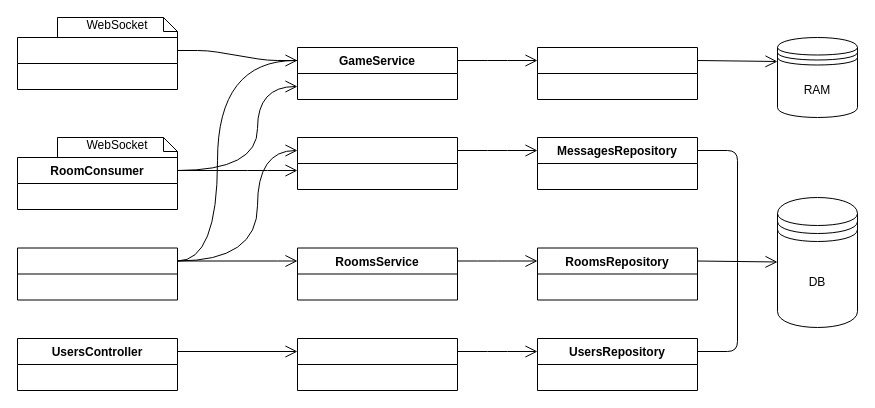
Some shapes in this 875 by 408 pixel diagram are drawn without their labels. Each missing label, with the box of its shape:
ChatService: (296, 136, 458, 190)
GamesRepository: (536, 46, 698, 100)
LobbyConsumer: (16, 36, 178, 90)
RoomsController: (16, 247, 178, 300)
UsersService: (296, 338, 458, 390)
